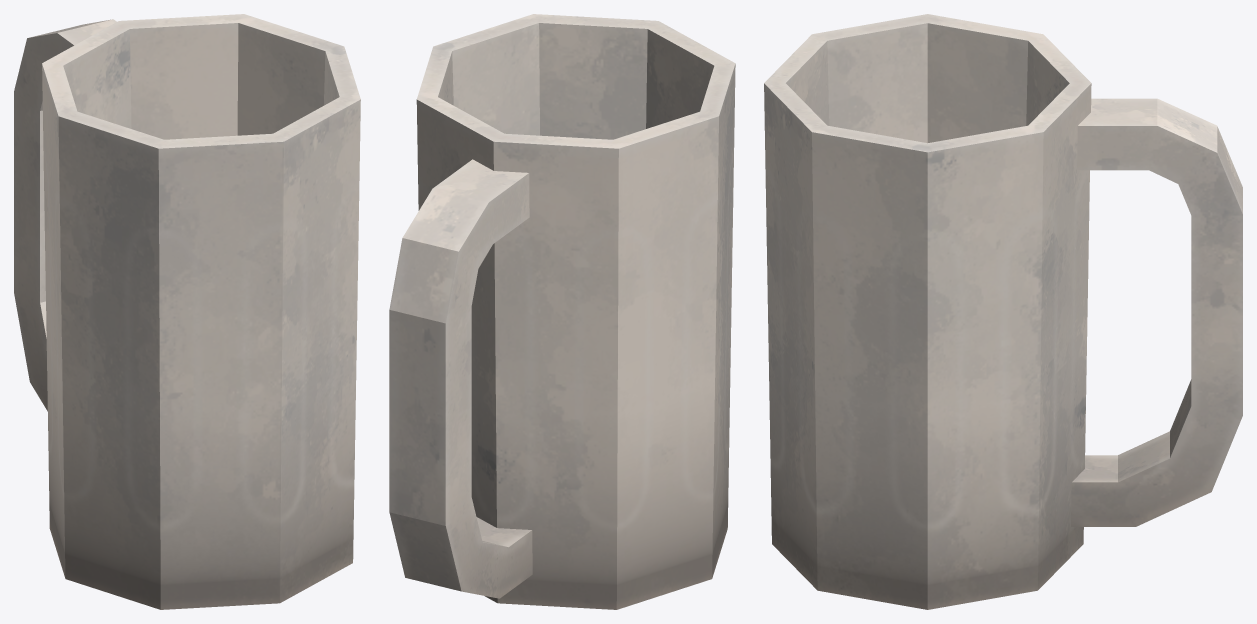
File: P_Cup_002_S1_M01.obj
3 views of the same model, side by side, from view 1: azimuth 30°, elevation 25°; view 2: azimuth 150°, elevation 25°; view 3: azimuth 270°, elevation 25° (orthographic).
Bounding box in the file's own units: 0.1801 × 0.2797 × 0.2634.
2 materials, 2 textured.
